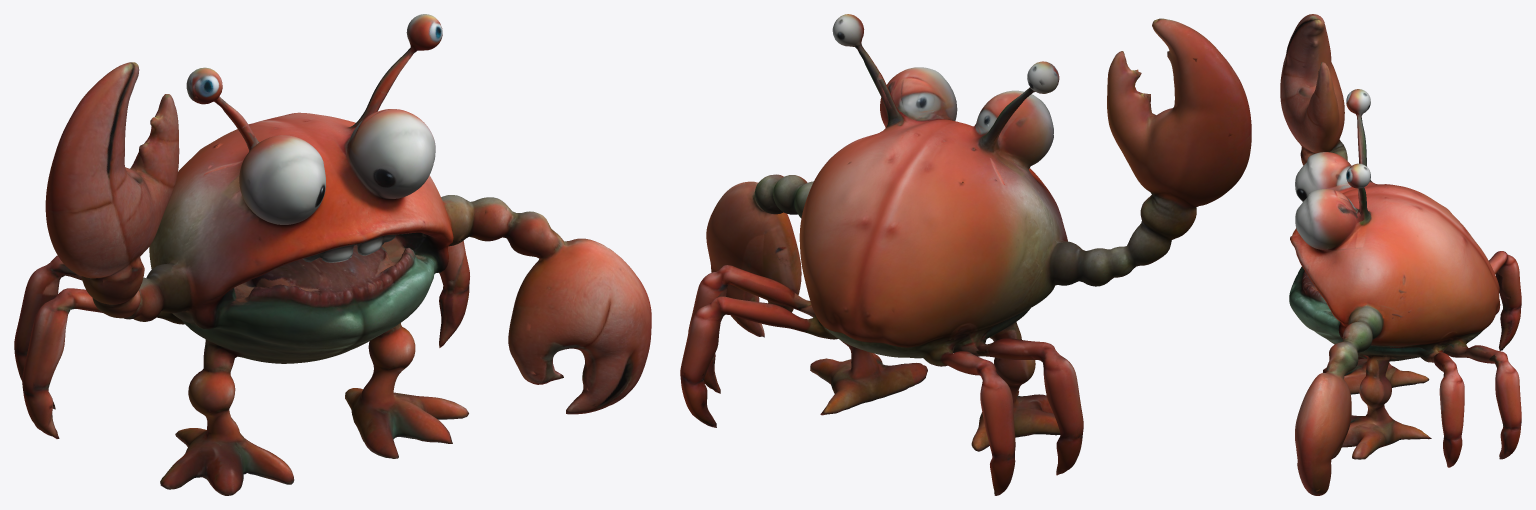
The model's file is mystery_raw.glb.
3 views of the same model, side by side, from view 1: azimuth 30°, elevation 25°; view 2: azimuth 150°, elevation 25°; view 3: azimuth 270°, elevation 25° (orthographic). The views are drawn at different scales.
Visible parts, largest first — view 1: Mesh_0; view 2: Mesh_0; view 3: Mesh_0.
Boxes of the visible parts, <box> form: Mesh_0: <box>14,14,651,495</box>; Mesh_0: <box>680,14,1251,495</box>; Mesh_0: <box>1280,14,1521,495</box>.
Bounding box in the file's own units: 2 × 1.47 × 1.
1 material, 1 textured.
